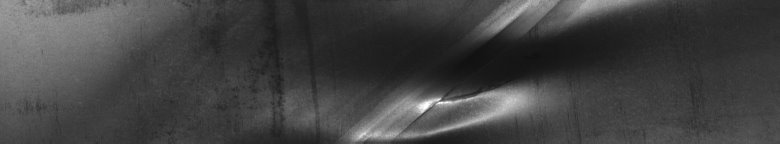ke: (405, 8, 523, 136)
